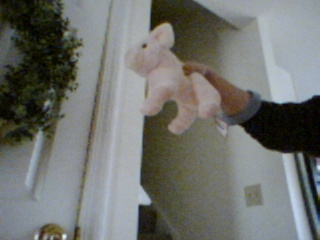piggy: (123, 21, 223, 137)
